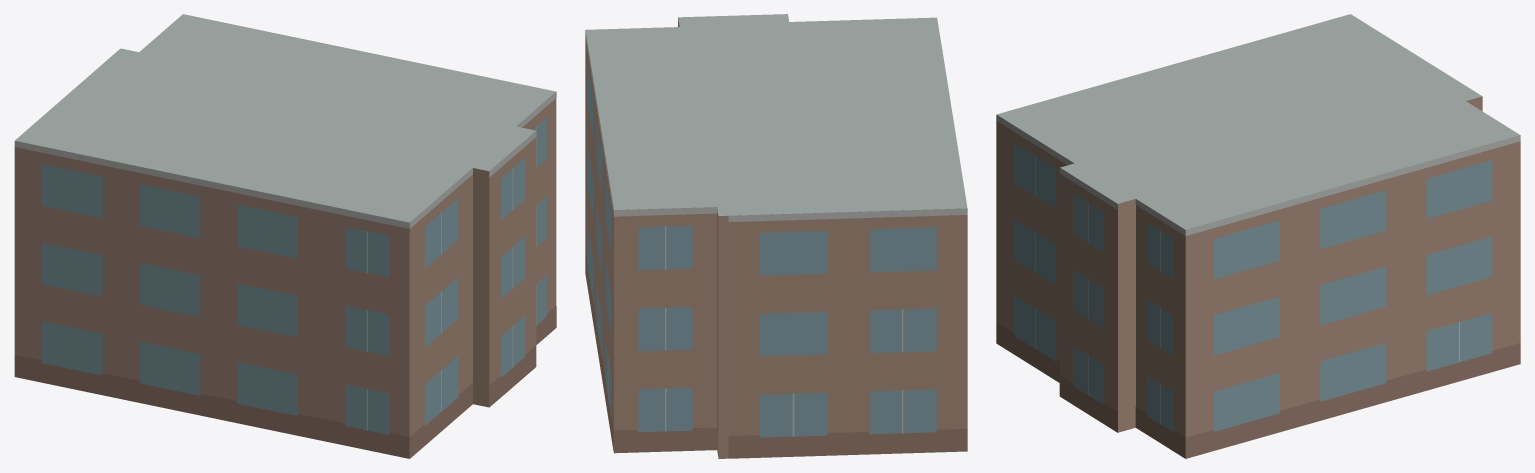
The model's file is survey-upis-32682469.glb.
The picture shows the model from 3 angles, left to right: view 1: azimuth 30°, elevation 25°; view 2: azimuth 150°, elevation 25°; view 3: azimuth 270°, elevation 25°; orthographic projection. The views are drawn at different scales.
Visible parts, largest first — view 1: survey-upis-32682469.tmp; view 2: survey-upis-32682469.tmp; view 3: survey-upis-32682469.tmp.
Part boxes in pixels (bbox=[...]): survey-upis-32682469.tmp: bbox=[14, 14, 556, 458]; survey-upis-32682469.tmp: bbox=[585, 14, 967, 458]; survey-upis-32682469.tmp: bbox=[996, 14, 1520, 458].
Size of the model in its own units: 18.52 by 9.15 by 19.
